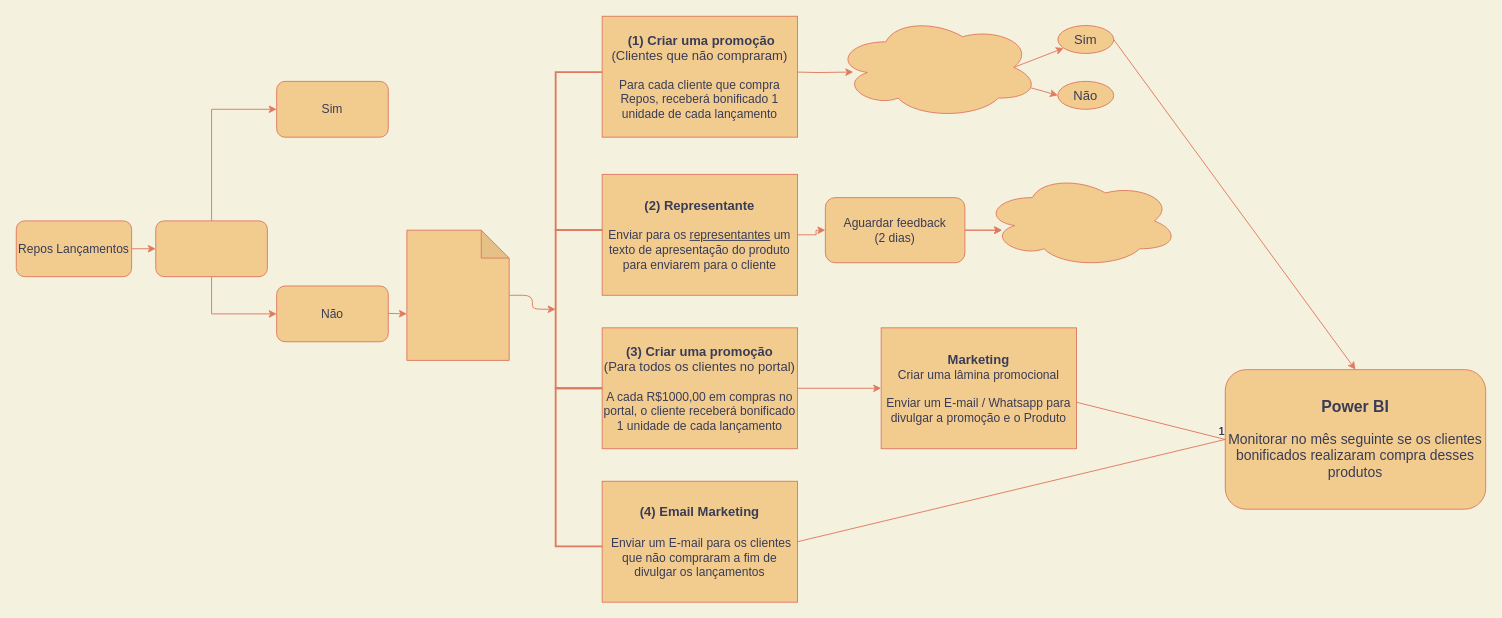
Image size: 1502x618. Some labels were removed from this diagram. The centre of each missing label's shape, as x and y in pixels:
"Cliente compra?" goes at (x=211, y=248).
"Power BI / Excel Planilhar os clientes" goes at (x=457, y=294).
"É viável depender do faturamento para segmentar os clientes?" goes at (x=936, y=67).
"É viável depender do representante?" goes at (x=1081, y=220).
